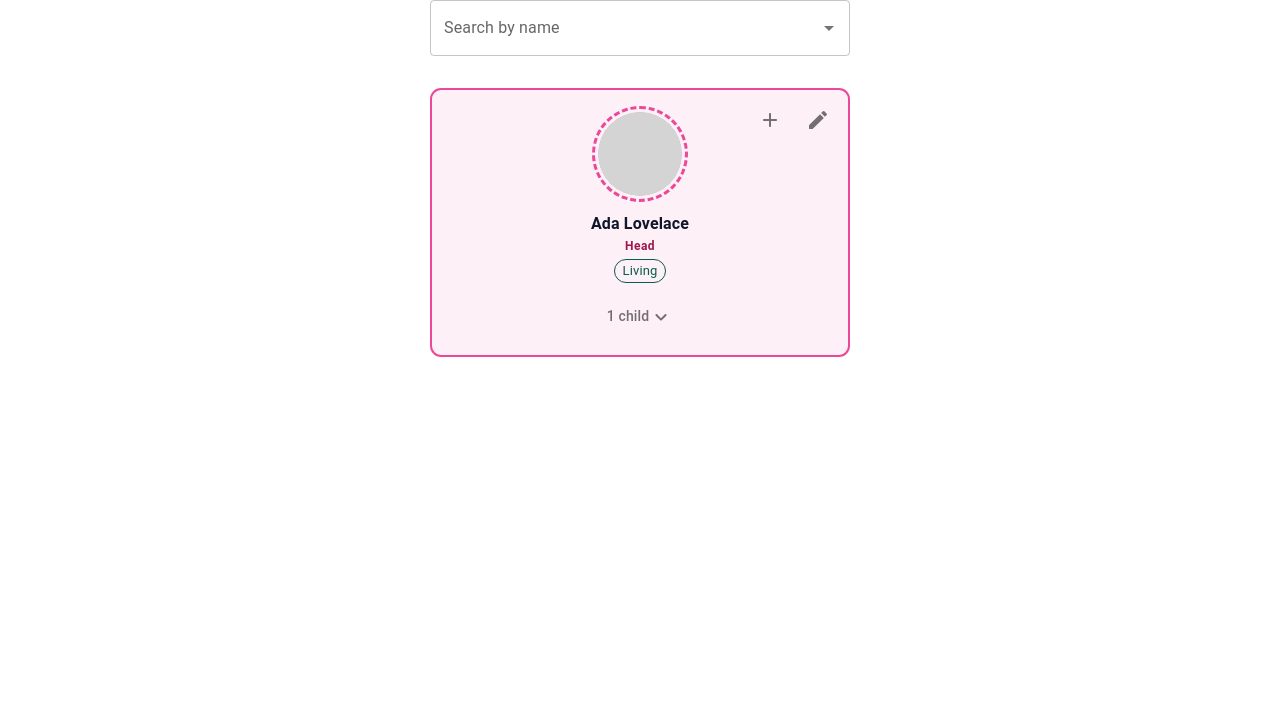
it: DetailPage › saving an edit to the head with gen1 already expanded leaves gen1 expanded after the refresh (no accidental collapse)
Expected: the element with test id "person-card-1" is shown, [430,88,850,357]
Click the button with aria-label "Show children of Ada Lovelace" at [640, 317], box [599,295,681,339]
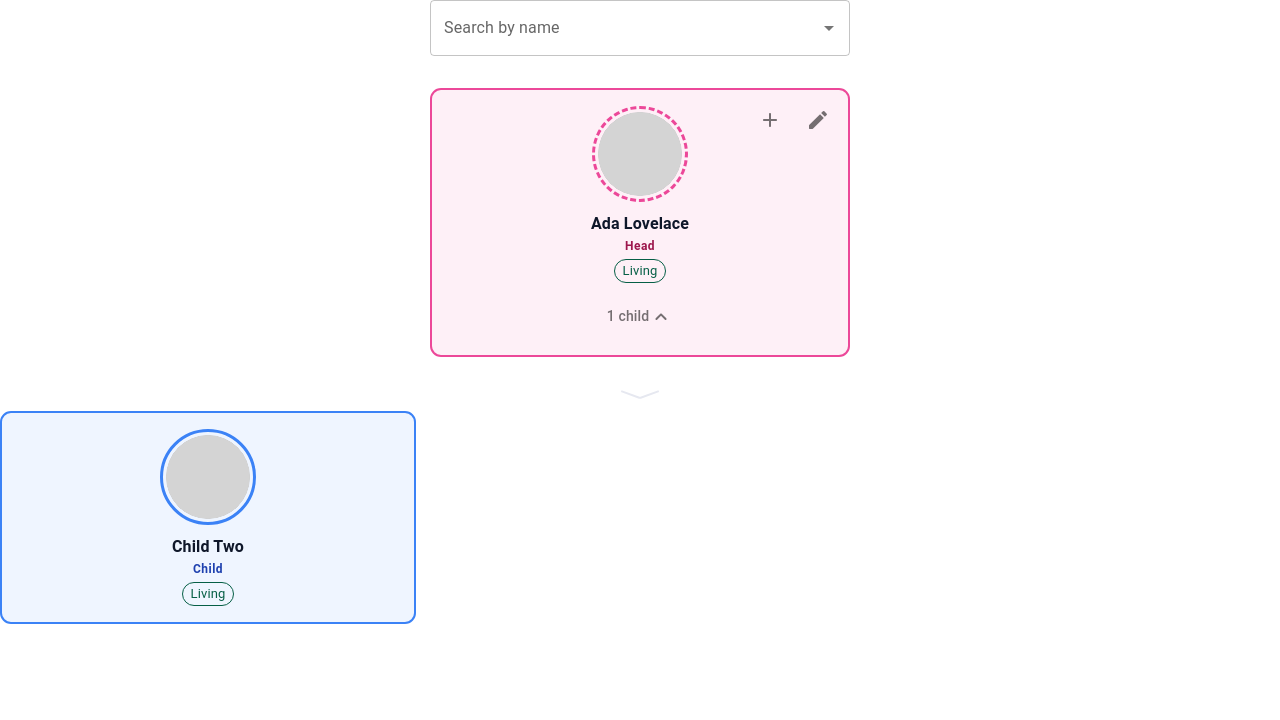
Result: the element with test id "person-card-2" is shown at [0,411,416,624]
Click the button named "Edit Ada Lovelace" at [818, 120], box [796,98,840,142]
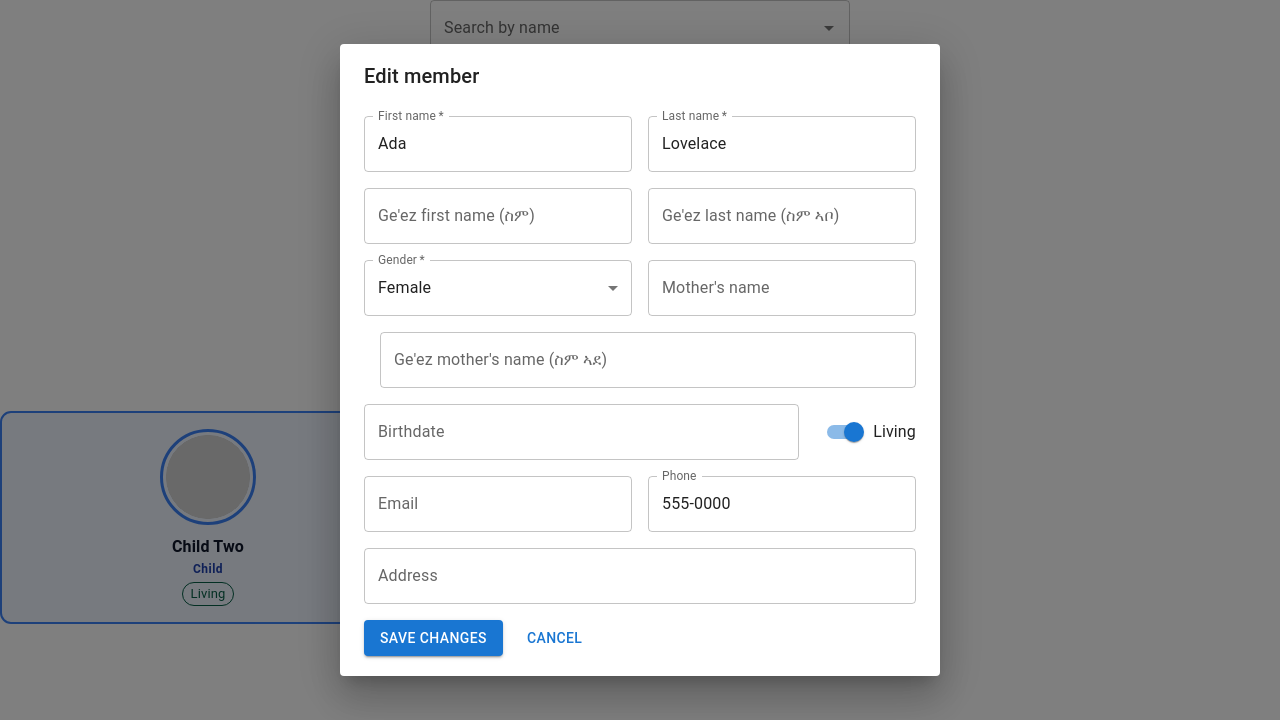
Result: the heading "Edit member" is shown at [364,64,479,88]
Click the button "Save changes" at [433, 638], box [364,620,503,656]
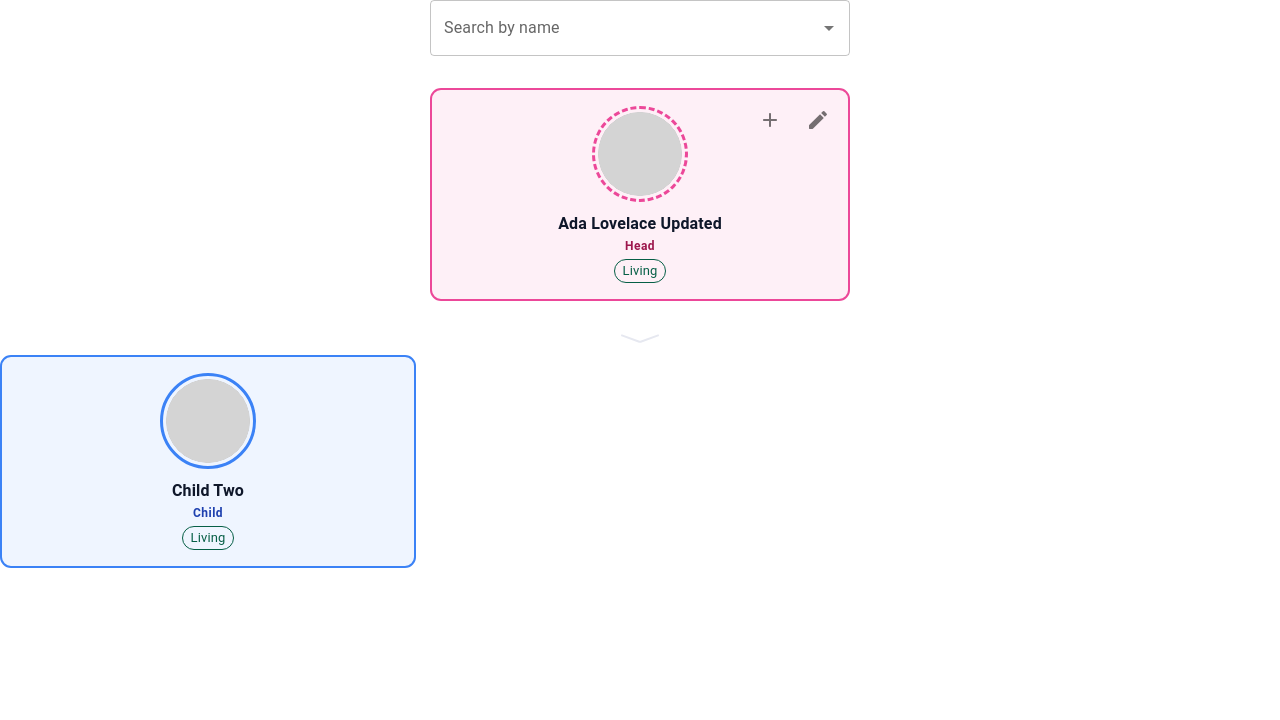
Result: the element with test id "person-card-2" is shown at [0,355,416,568]
Result: the text "Ada Lovelace Updated" is shown at [558,214,722,234]
